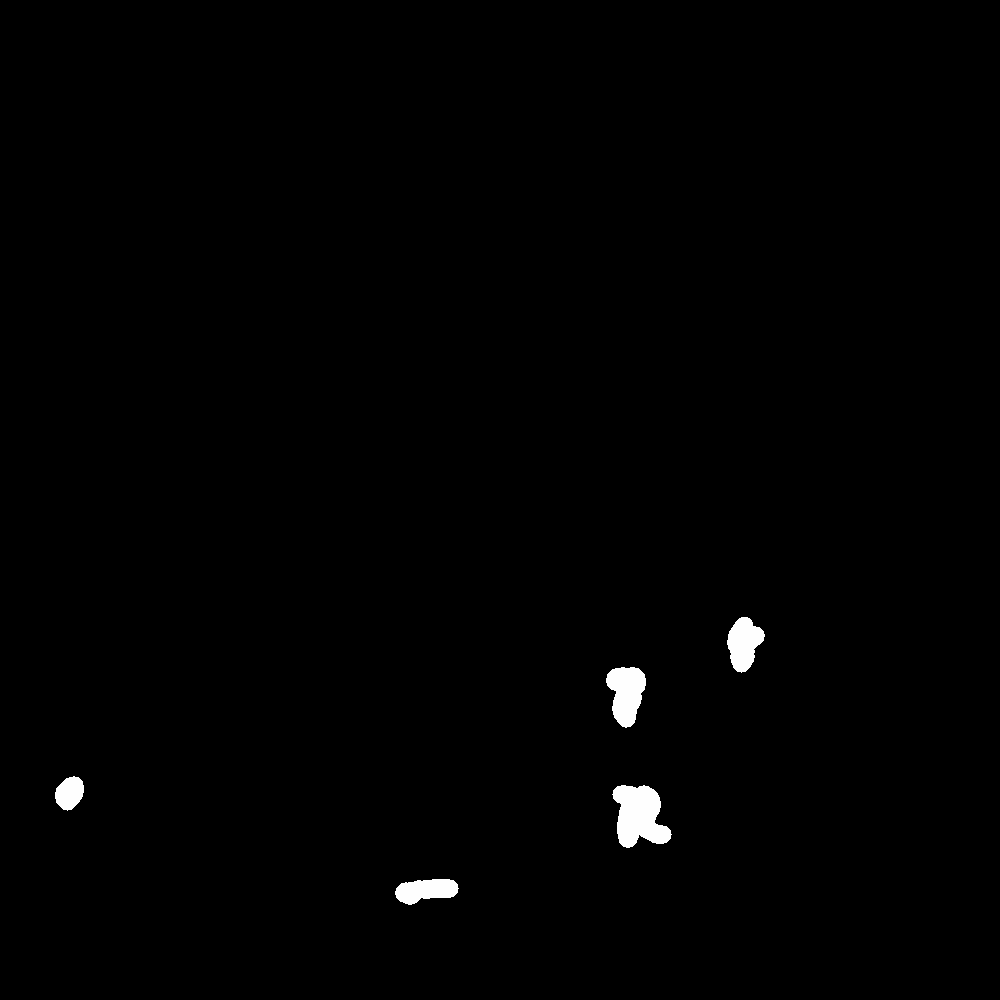illegal: (599, 778, 679, 849), (707, 615, 769, 688), (605, 660, 644, 711)
